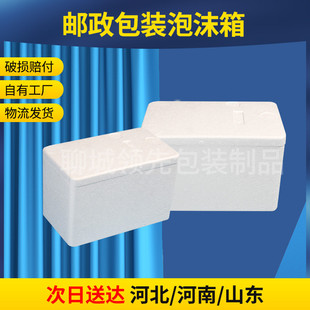Boxes: (43, 101, 286, 246)
